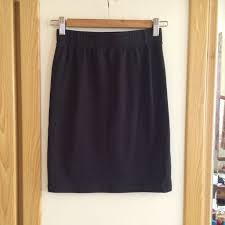F_tailored skirt: (36, 16, 181, 205)
